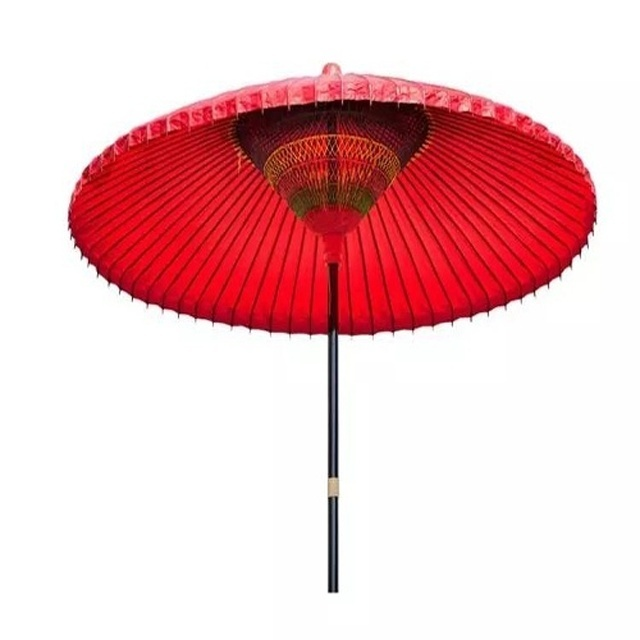umbrella: (63, 62, 600, 596)
